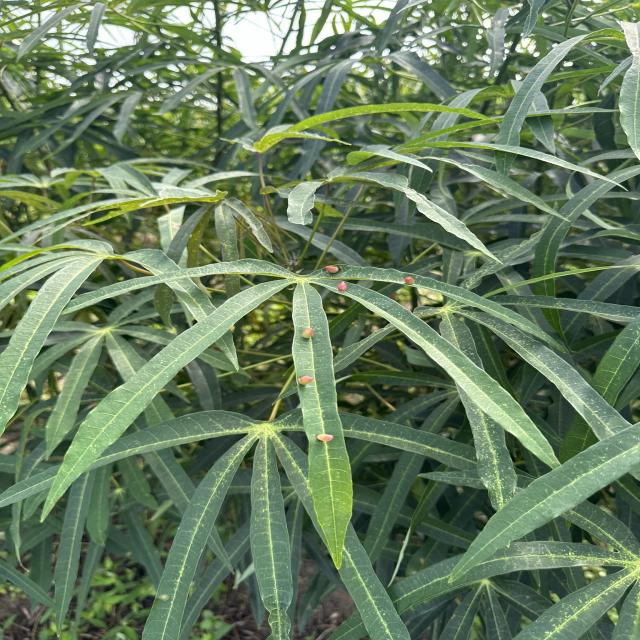Mosca: (311, 423, 338, 450), (319, 255, 347, 281), (290, 319, 318, 341), (328, 278, 356, 300), (396, 268, 424, 289), (289, 366, 313, 389)
